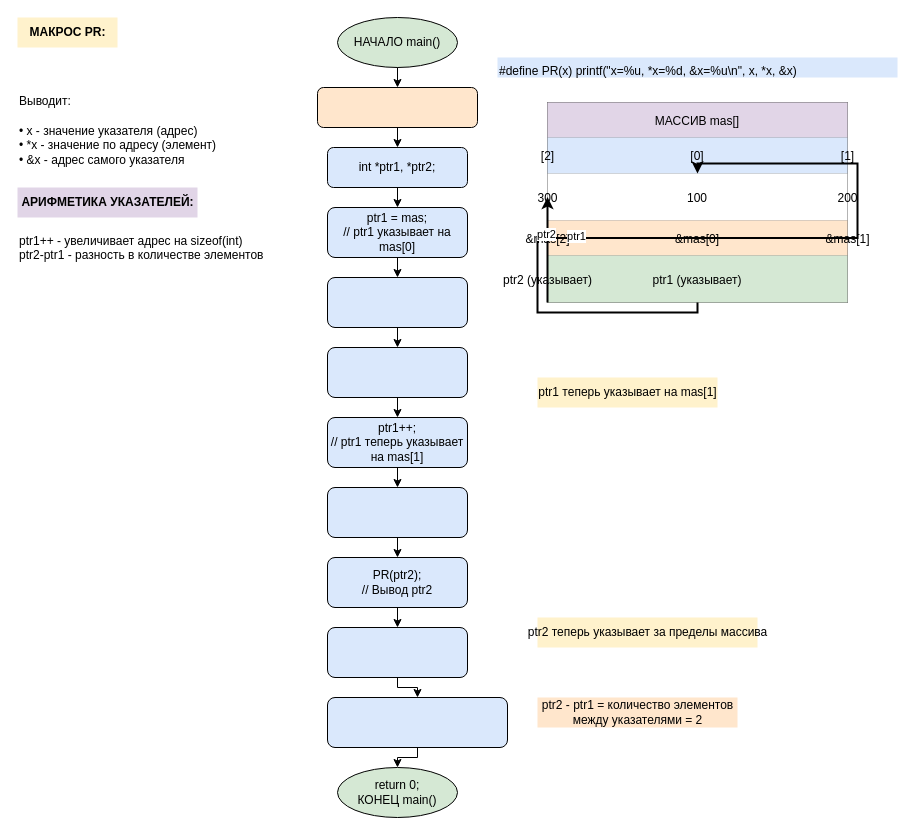
The diagram is 914 pixels wide and 835 high, and some of its shapes have lost their labels. The shapes that lost their labels are listed below. From the top down, each one's centre as x and y in pixels, then its label:
(x=397, y=107): int mas[] = {100, 200, 300};
(x=397, y=302): ptr2 = &mas[2]; // ptr2 указывает на mas[2]
(x=397, y=372): PR(ptr1); // Вывод: ptr1, *ptr1, &ptr1
(x=397, y=512): PR(ptr1); // Вывод после инкремента
(x=397, y=652): ++ptr2; // ptr2 теперь указывает за пределы массива
(x=417, y=722): printf("ptr2-ptr1=%lld\n", ptr2-ptr1);
